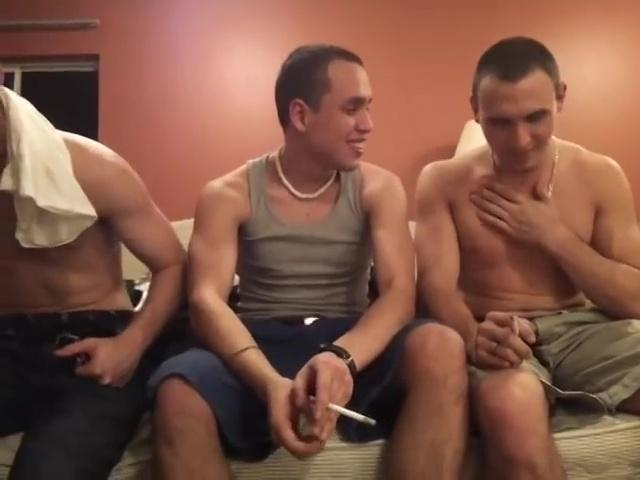cigarette: (327, 399, 379, 426), (507, 313, 526, 341)
